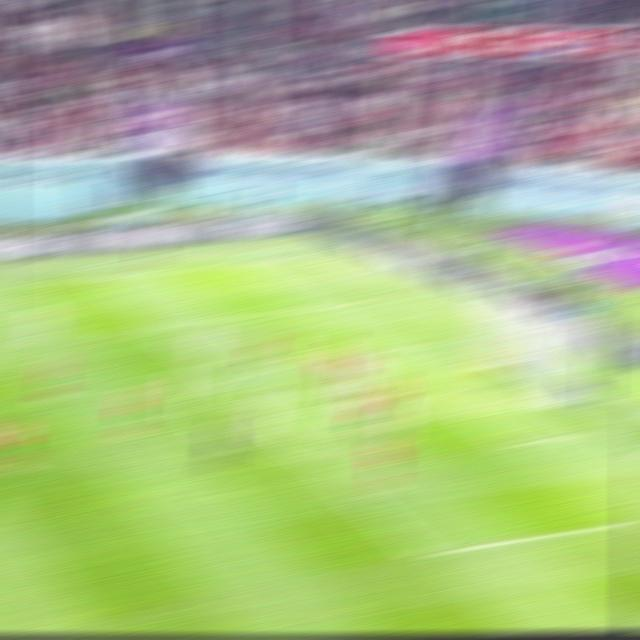bigarea_bottom_inner: (406, 541, 445, 568)
bigarea_top_inner: (139, 316, 173, 334)
bigarea_top_outter: (352, 291, 384, 308)
bottom_arc_area_intersection: (295, 447, 330, 469)
corner: (280, 252, 312, 263)
smallarea_bottom_inner: (493, 430, 530, 457)
smallarea_bottom_outter: (578, 421, 612, 443)
smallarea_top_inner: (352, 342, 387, 363)
smallarea_top_outter: (424, 333, 456, 350)
top_arc_area_intersection: (205, 371, 235, 387)
